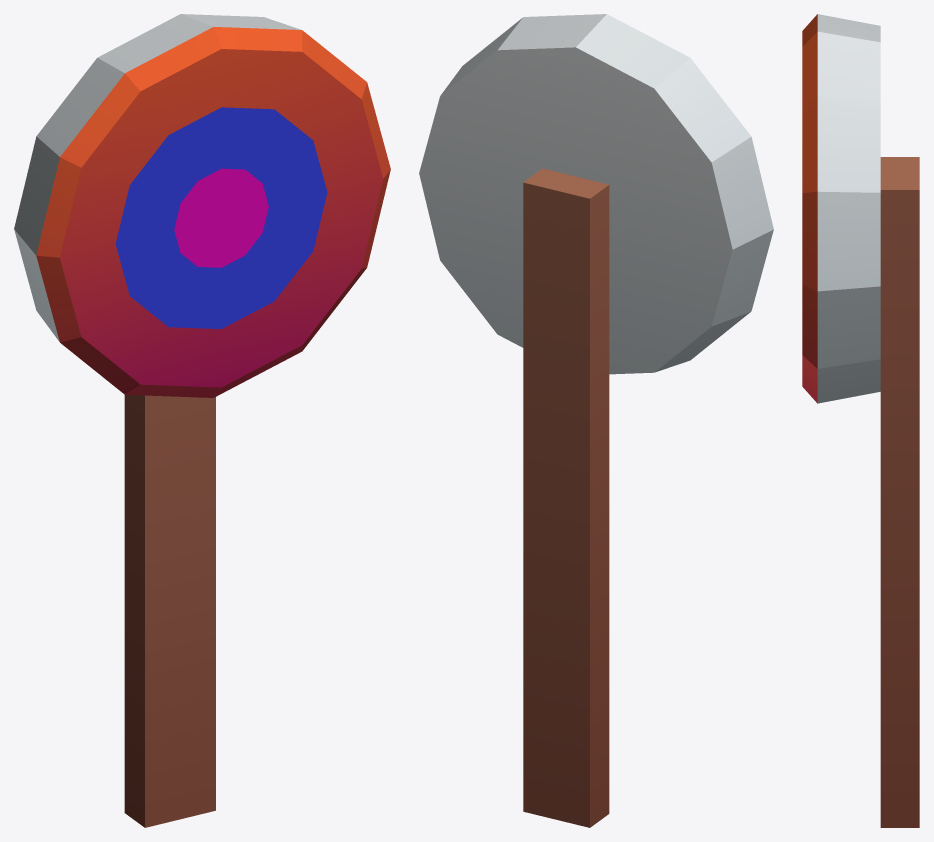
The model's file is smallTarget2.glb.
The picture shows the model from 3 angles, left to right: view 1: azimuth 30°, elevation 25°; view 2: azimuth 150°, elevation 25°; view 3: azimuth 270°, elevation 25°; orthographic projection. The views are drawn at different scales.
Visible parts, largest first — view 1: target_small; view 2: target_small; view 3: target_small.
Boxes of the visible parts, box(x1,y1,x2,y2) form: target_small: box(14, 14, 390, 827); target_small: box(419, 14, 773, 827); target_small: box(802, 14, 919, 827).
Bounding box in the file's own units: 0.5 × 1.1 × 0.15.
3 materials, 1 textured.
